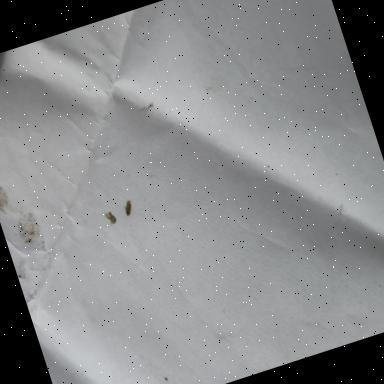pbw: (122, 200, 134, 216)
